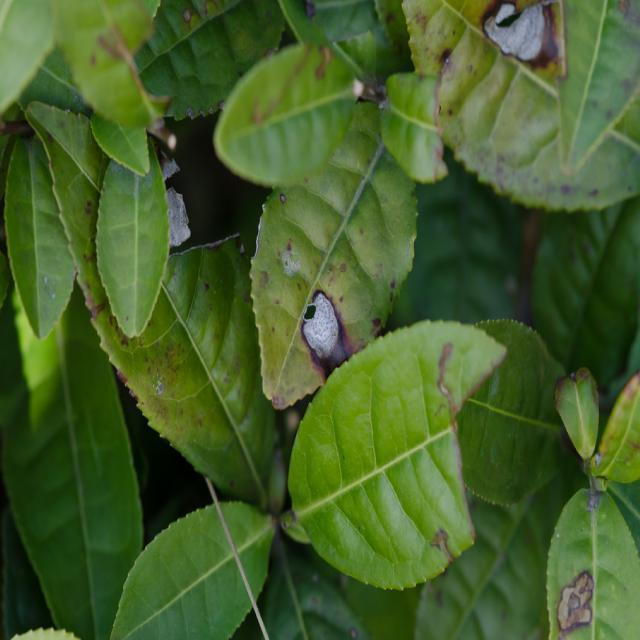Tea cloud leaf blight: (294, 281, 351, 363)
